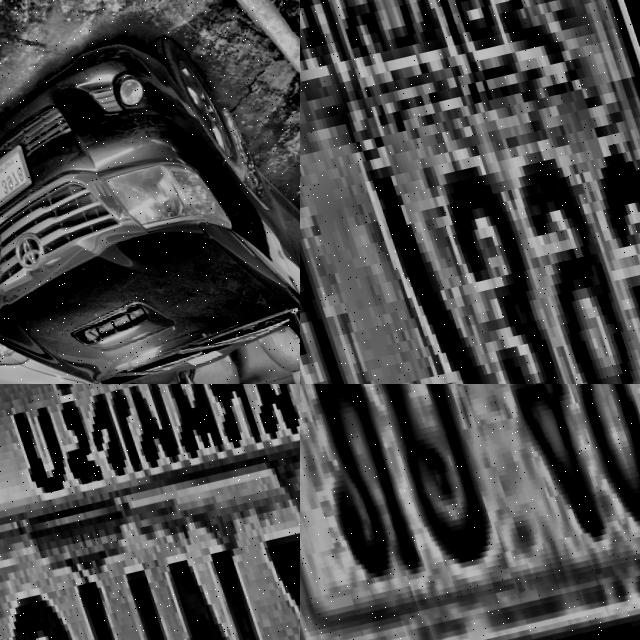license-plate: (300, 0, 640, 384), (300, 384, 640, 640), (0, 384, 300, 640), (0, 134, 35, 219)
